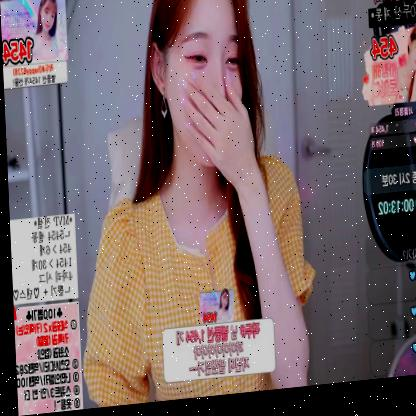donation: (157, 289, 272, 388), (1, 0, 69, 90), (358, 33, 416, 116)
streamer: (66, 0, 319, 411)
